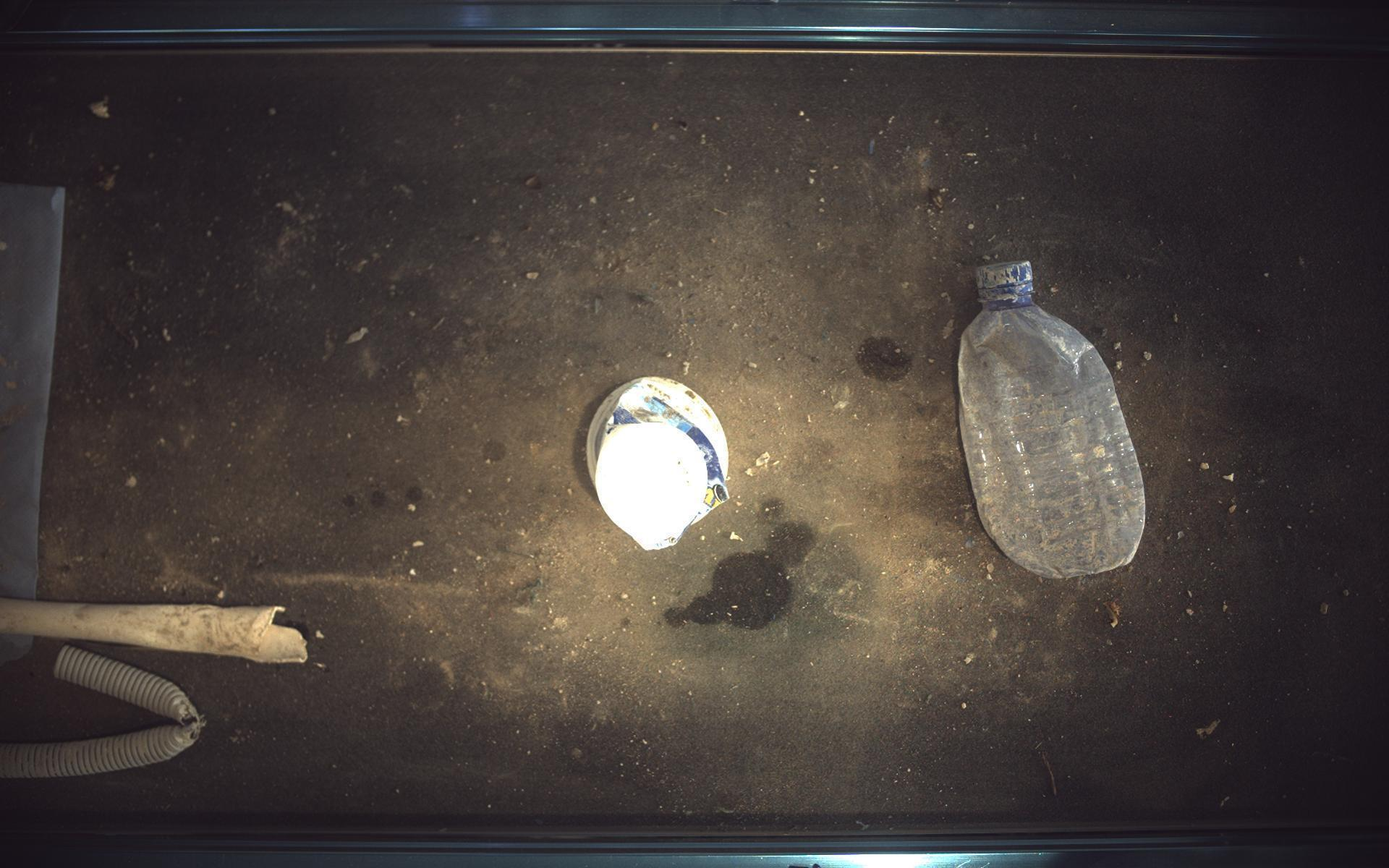general_w: (960, 262, 1148, 579), (587, 377, 730, 551)
pipes: (1, 646, 203, 780), (1, 599, 306, 664)
